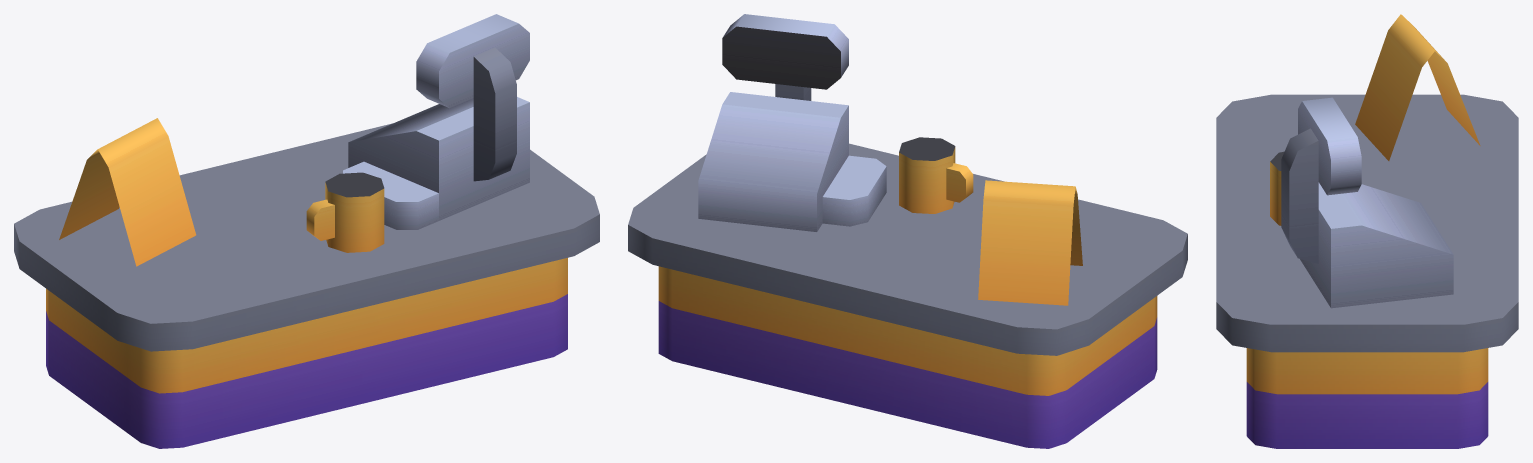
The model's file is cash-register.glb.
3 renders of one model, left to right at view 1: azimuth 30°, elevation 25°; view 2: azimuth 150°, elevation 25°; view 3: azimuth 270°, elevation 25°, orthographic. The views are drawn at different scales.
Parts seen in each view (by area): view 1: cash-register; view 2: cash-register; view 3: cash-register.
Part boxes in pixels (x1=…): cash-register: x1=14, y1=14, x2=599, y2=448; cash-register: x1=628, y1=14, x2=1187, y2=448; cash-register: x1=1216, y1=14, x2=1518, y2=448.
Bounding box in the file's own units: 0.9 × 0.5449 × 0.5001.
1 material, 1 textured.
